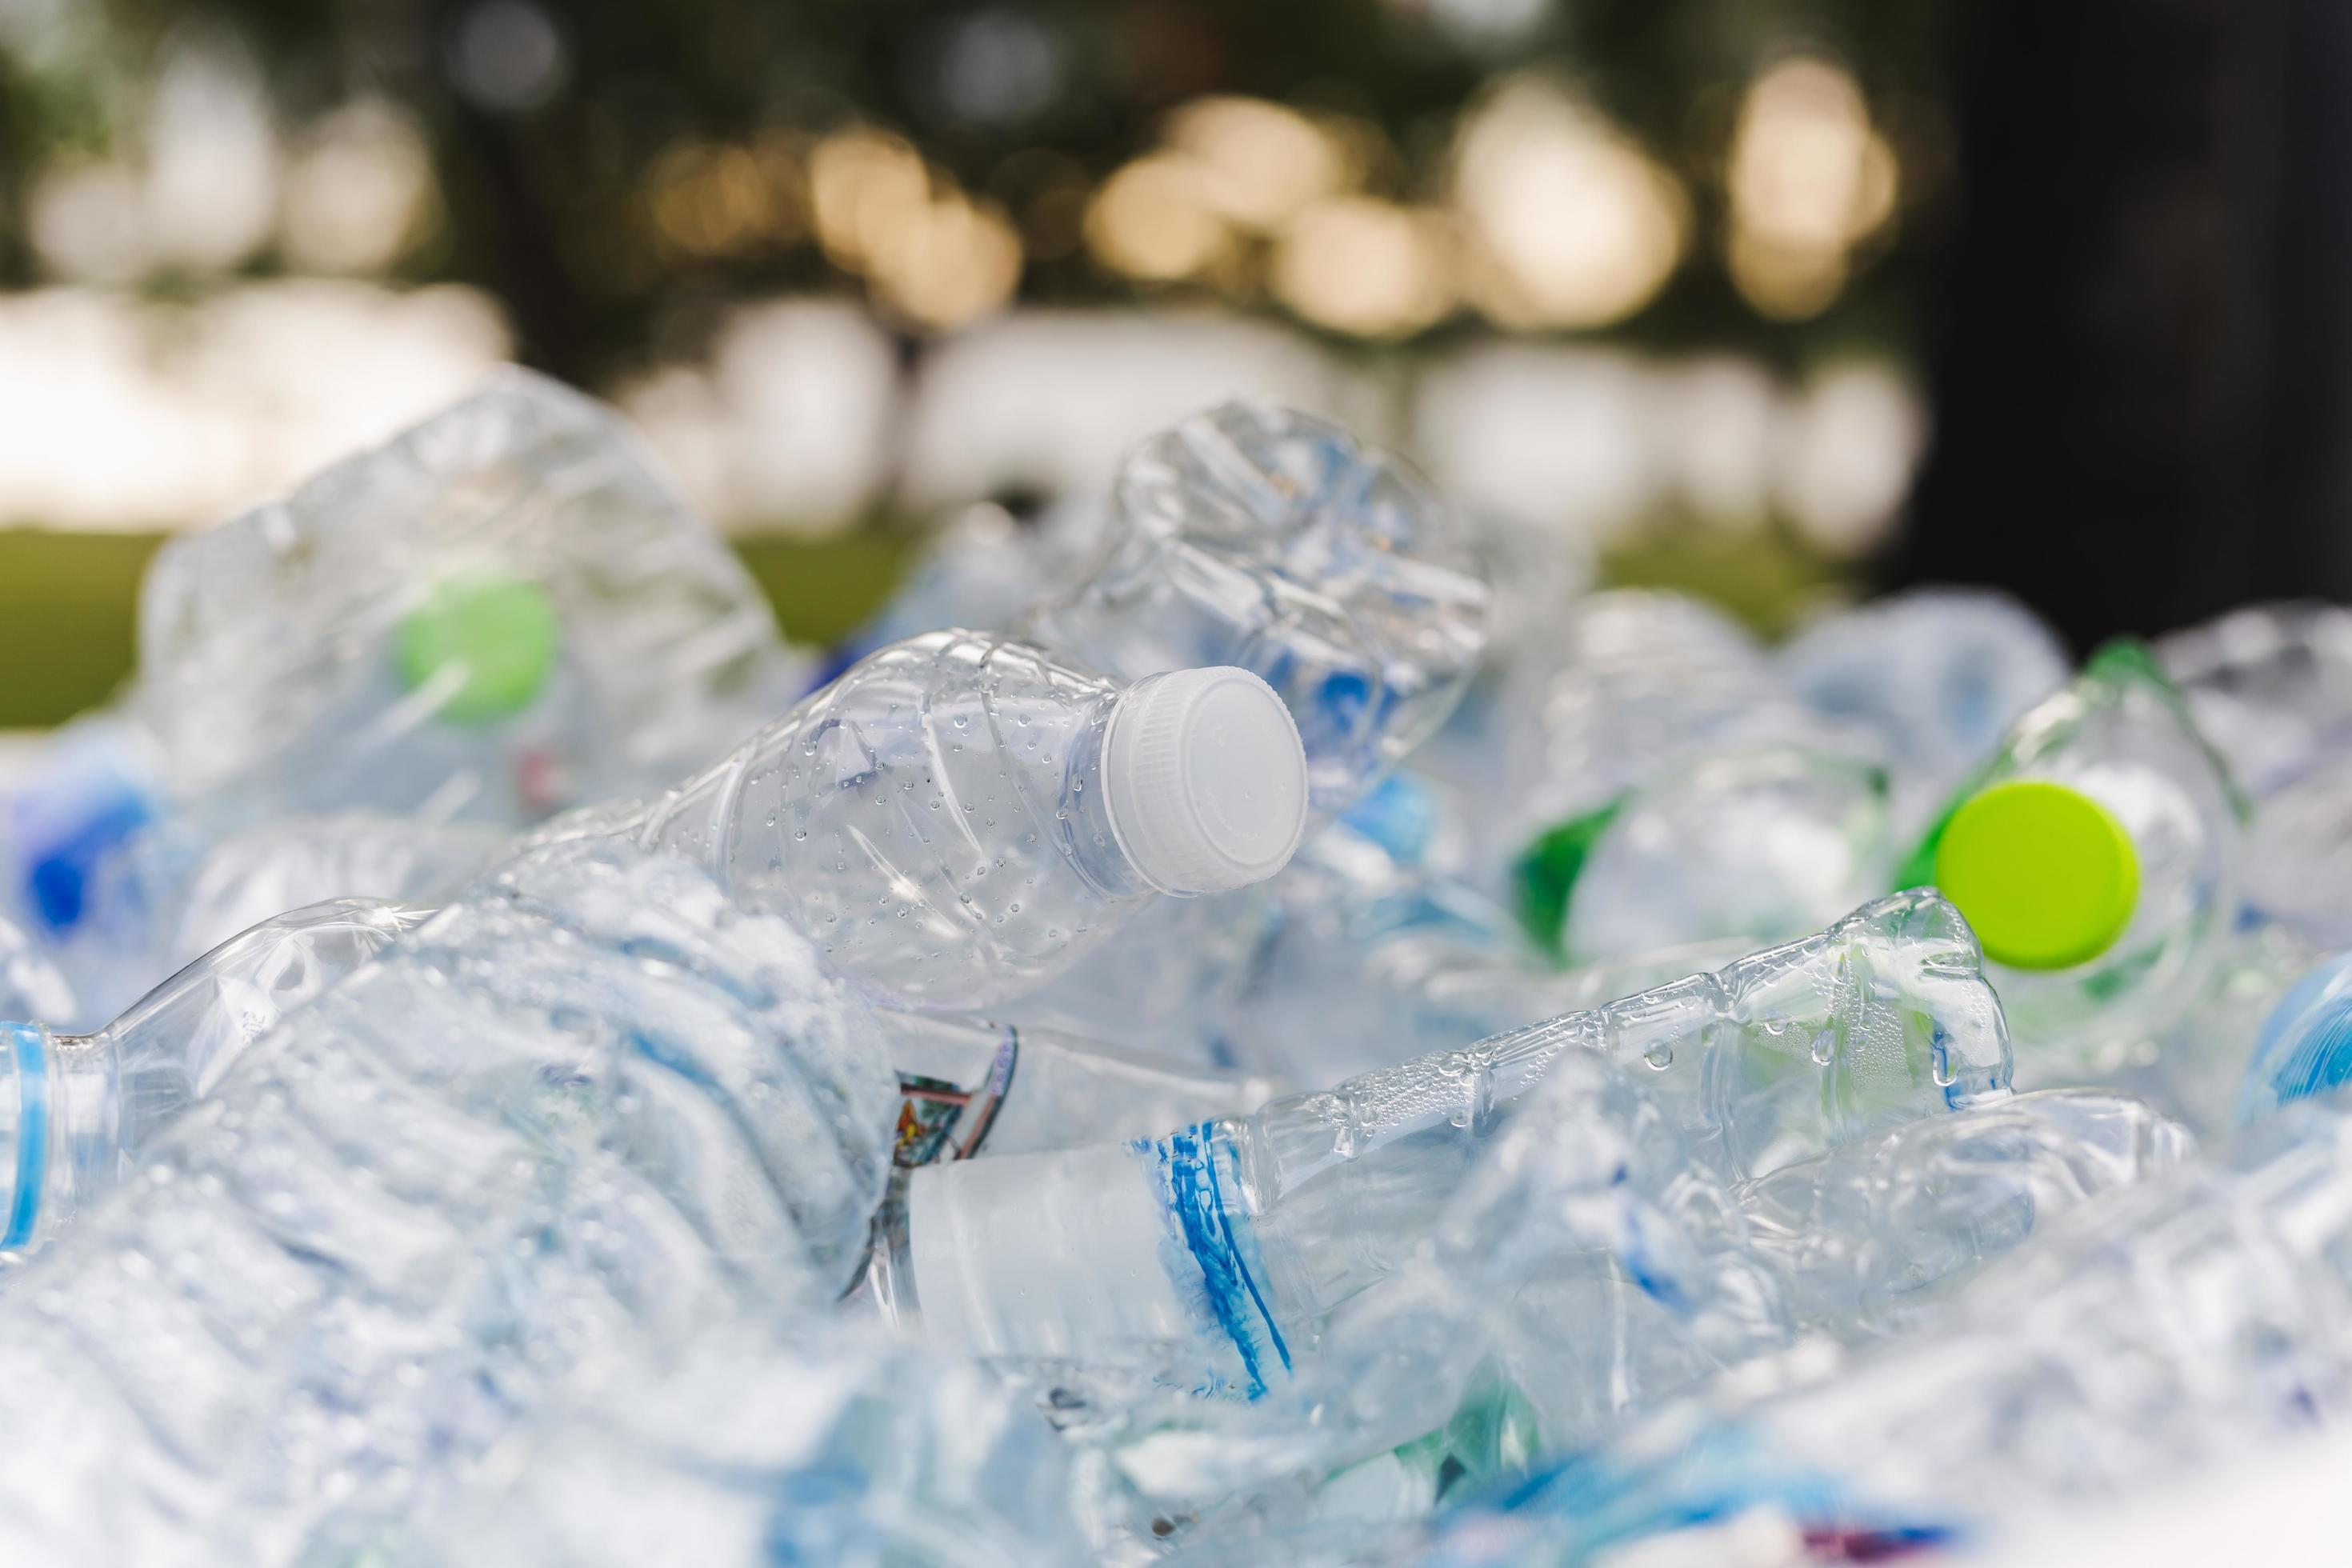plastic: (901, 882, 2068, 1375), (581, 612, 1379, 1017)
